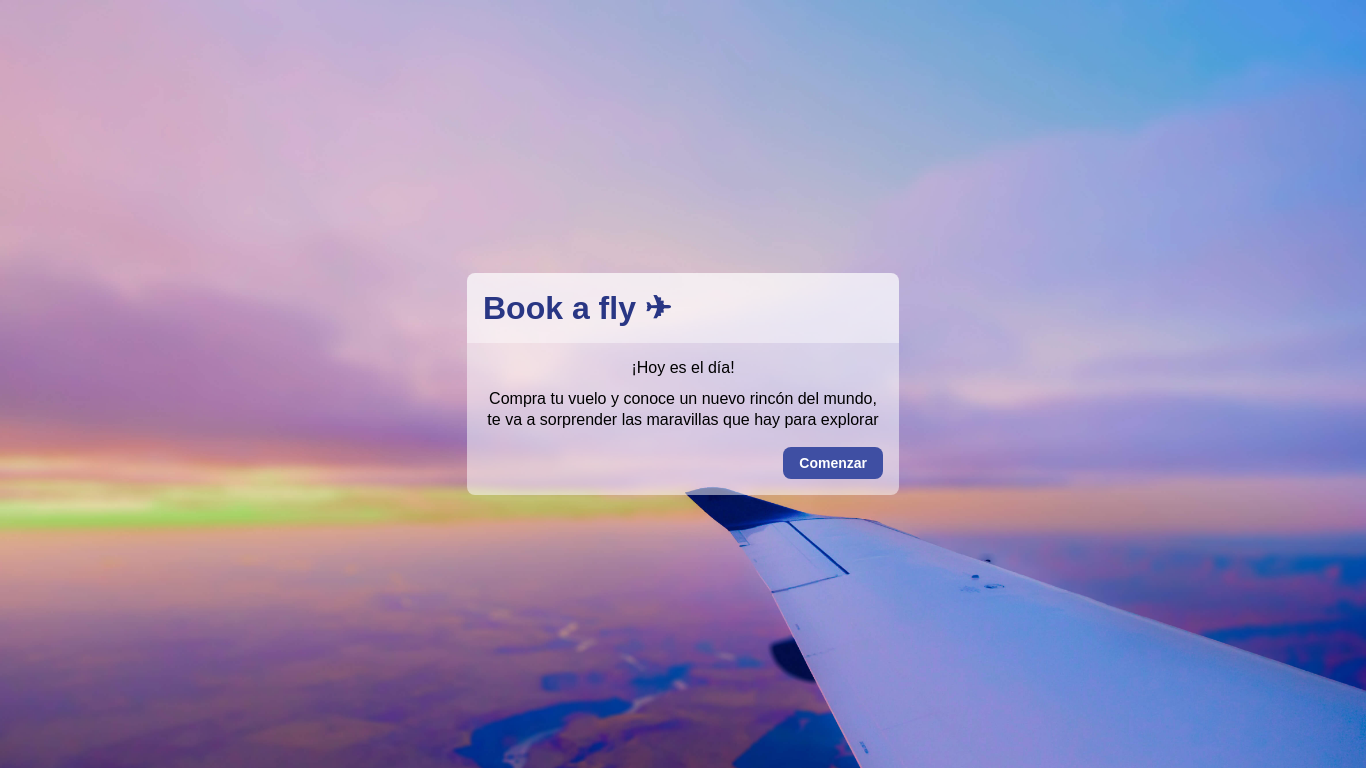
allows retrying after the country request fails
The width and height of the screenshot is (1366, 768).
Later steps or results of the test are not shown.
Click the button "Comenzar": (833,463) x1=783 y1=447 x2=883 y2=479
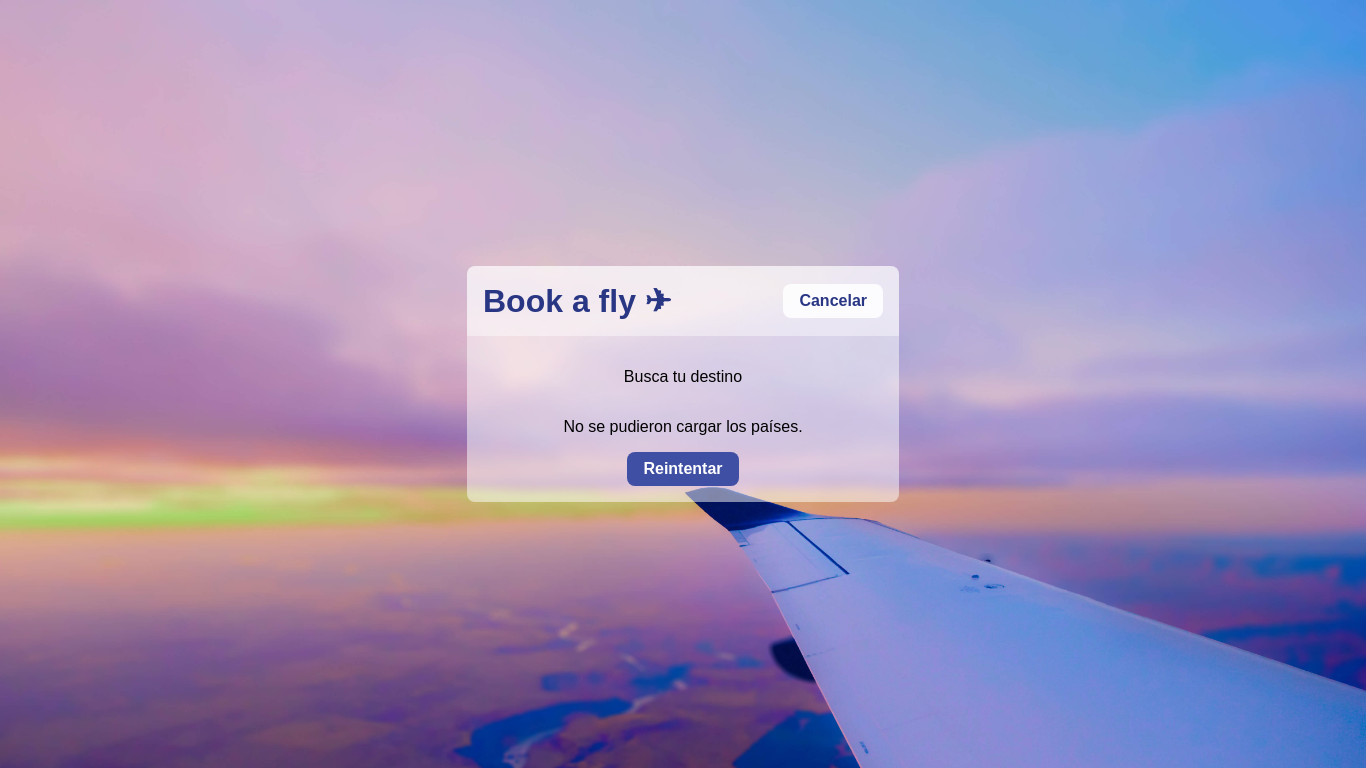
Now the message shows "No se pudieron cargar los países.", box x1=563 y1=418 x2=803 y2=435
